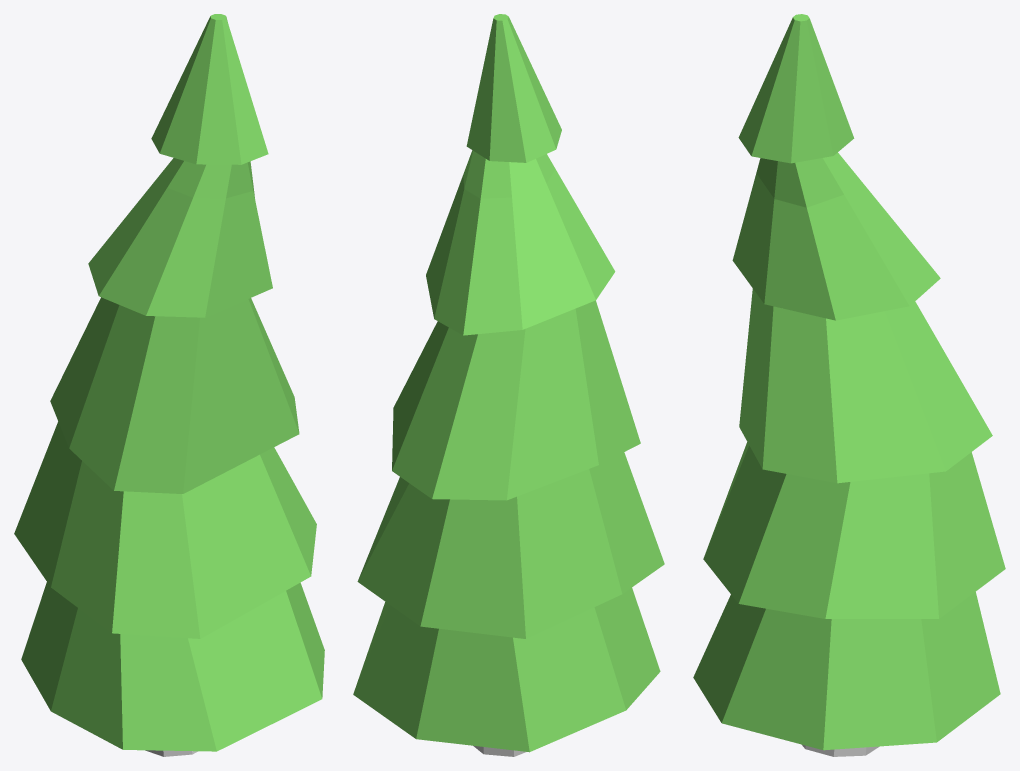
The model's file is Tree.fbx.
3 renders of one model, left to right at view 1: azimuth 30°, elevation 25°; view 2: azimuth 150°, elevation 25°; view 3: azimuth 270°, elevation 25°, orthographic. The views are drawn at different scales.
Visible parts, largest first — view 1: pine tree 1 var 1; view 2: pine tree 1 var 1; view 3: pine tree 1 var 1.
Boxes of the visible parts, x1=… form: pine tree 1 var 1: x1=14, y1=14, x2=324, y2=756; pine tree 1 var 1: x1=353, y1=14, x2=664, y2=756; pine tree 1 var 1: x1=693, y1=14, x2=1005, y2=756.
Size of the model in its own units: 273 by 717 by 275.
